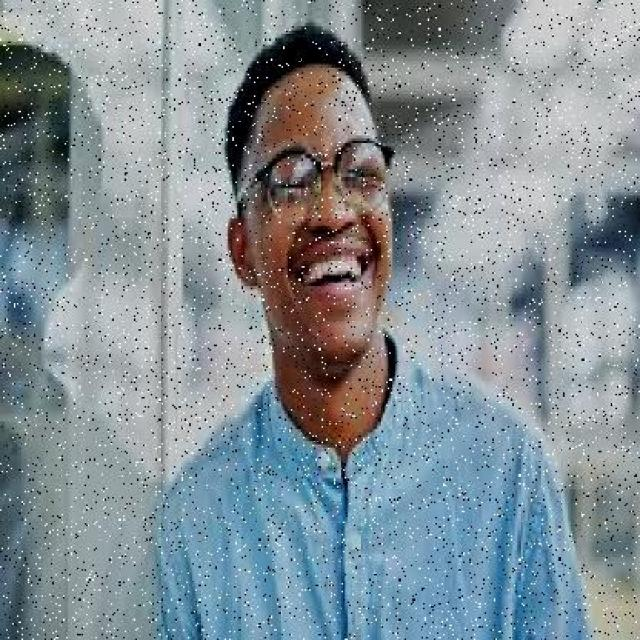glasses: (255, 128, 400, 234)
